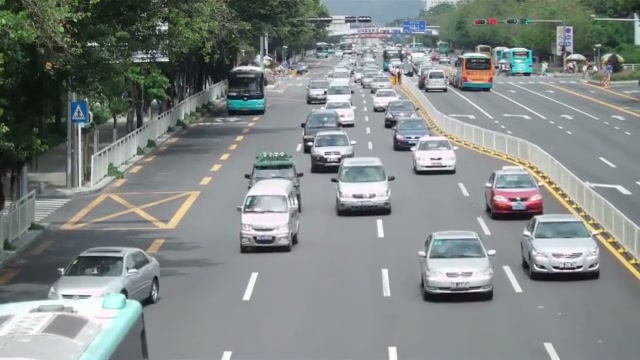bus: (226, 65, 266, 114), (453, 52, 494, 91), (496, 47, 533, 76), (509, 48, 532, 76)
car: (0, 291, 149, 359), (48, 245, 160, 305), (416, 230, 496, 302), (519, 213, 601, 281), (237, 179, 302, 253), (333, 156, 395, 216), (483, 166, 544, 218), (310, 130, 354, 172), (411, 136, 457, 175), (303, 109, 340, 153), (392, 117, 431, 151), (384, 100, 416, 129), (324, 103, 356, 128), (372, 88, 401, 112), (423, 69, 448, 93)
